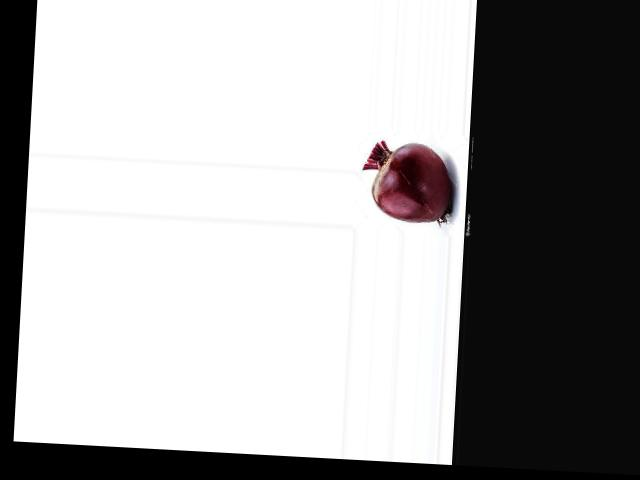beet: (360, 139, 453, 224)
